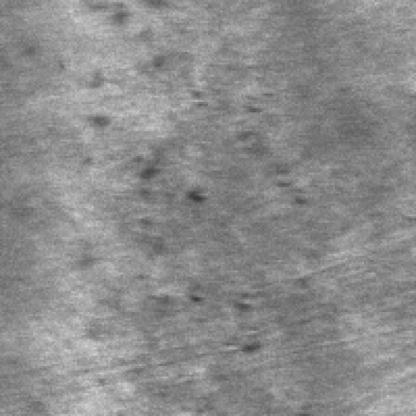rolled-in_scale: (127, 116, 264, 352)
